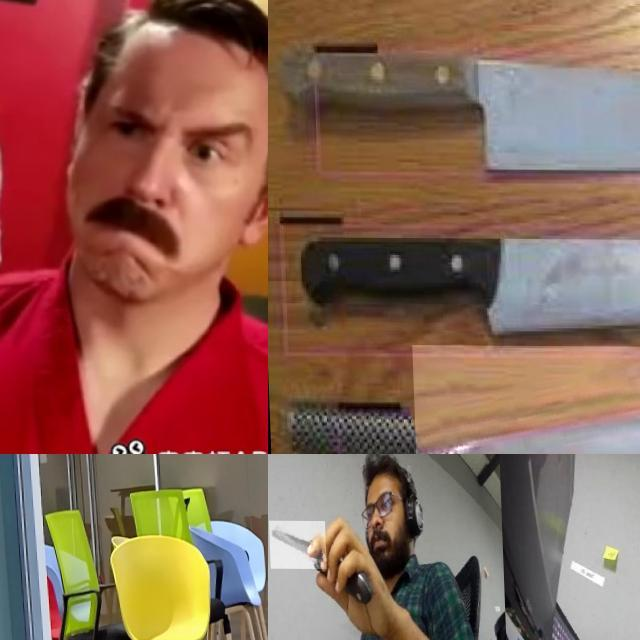-: (371, 9, 640, 205), (403, 209, 640, 357), (409, 344, 640, 454), (268, 520, 324, 568)
gun-knife-thesis - v11 Yolov5 augmented: (0, 10, 59, 163)
